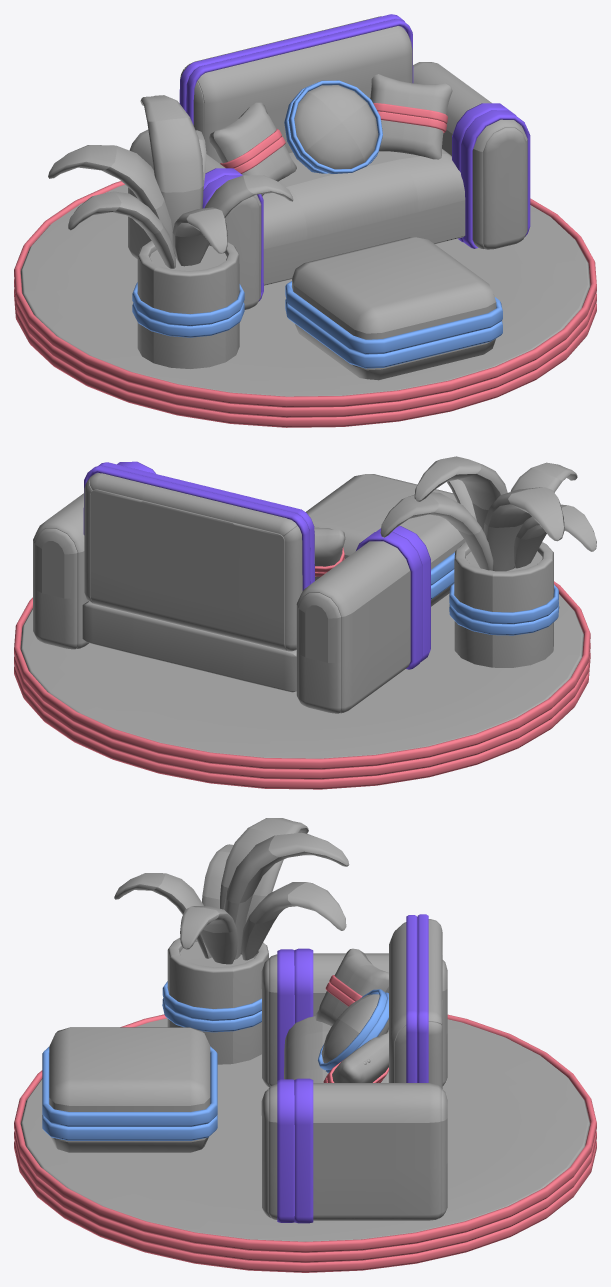
The model's file is RoyalSofa.fbx.
3 views of the same model, one above another, from view 1: azimuth 30°, elevation 25°; view 2: azimuth 150°, elevation 25°; view 3: azimuth 270°, elevation 25° (orthographic).
Visible parts, largest first — view 1: S_RoyalSofa, D5_Chapter08_Sofa_276, D5_Chapter08_Sofa_119, D5_Chapter08_Sofa_6, D5_Chapter08_Sofa_224, D5_Chapter08_Sofa_102, D5_Chapter08_Sofa_209, D5_Chapter08_Sofa_109, D5_Chapter08_Sofa_185, D5_Chapter08_Sofa_196, D5_Chapter08_Sofa_43, D5_Chapter08_Sofa_155 (+56 smaller); view 2: S_RoyalSofa, D5_Chapter08_Sofa_219, D5_Chapter08_Sofa_6, D5_Chapter08_Sofa_119, D5_Chapter08_Sofa_71, D5_Chapter08_Sofa_177, D5_Chapter08_Sofa_126, D5_Chapter08_Sofa_232, D5_Chapter08_Sofa_155, D5_Chapter08_Sofa_163, D5_Chapter08_Sofa_157, D5_Chapter08_Sofa_258 (+64 smaller); view 3: S_RoyalSofa, D5_Chapter08_Sofa_276, D5_Chapter08_Sofa_219, D5_Chapter08_Sofa_71, D5_Chapter08_Sofa_101, D5_Chapter08_Sofa_6, D5_Chapter08_Sofa_109, D5_Chapter08_Sofa_279, D5_Chapter08_Sofa_9, D5_Chapter08_Sofa_177, D5_Chapter08_Sofa_284, D5_Chapter08_Sofa_125 (+53 smaller).
Boxes of the visible parts, bbox=[...] form: S_RoyalSofa: bbox=[14, 14, 596, 427]; D5_Chapter08_Sofa_276: bbox=[496, 261, 590, 350]; D5_Chapter08_Sofa_119: bbox=[23, 288, 150, 372]; D5_Chapter08_Sofa_6: bbox=[20, 204, 127, 293]; D5_Chapter08_Sofa_224: bbox=[133, 360, 342, 396]; D5_Chapter08_Sofa_102: bbox=[483, 128, 526, 249]; D5_Chapter08_Sofa_209: bbox=[324, 272, 434, 333]; D5_Chapter08_Sofa_109: bbox=[394, 259, 495, 319]; D5_Chapter08_Sofa_185: bbox=[147, 117, 203, 192]; D5_Chapter08_Sofa_196: bbox=[333, 338, 530, 395]; D5_Chapter08_Sofa_43: bbox=[153, 265, 225, 313]; D5_Chapter08_Sofa_155: bbox=[184, 50, 264, 123]; S_RoyalSofa: bbox=[14, 461, 590, 789]; D5_Chapter08_Sofa_219: bbox=[80, 694, 274, 757]; D5_Chapter08_Sofa_6: bbox=[265, 710, 472, 758]; D5_Chapter08_Sofa_119: bbox=[430, 653, 581, 734]; D5_Chapter08_Sofa_71: bbox=[20, 624, 135, 712]; D5_Chapter08_Sofa_177: bbox=[136, 676, 283, 727]; D5_Chapter08_Sofa_126: bbox=[387, 647, 500, 709]; D5_Chapter08_Sofa_232: bbox=[275, 687, 429, 728]; D5_Chapter08_Sofa_155: bbox=[233, 507, 297, 569]; D5_Chapter08_Sofa_163: bbox=[492, 558, 553, 612]; D5_Chapter08_Sofa_157: bbox=[93, 644, 190, 693]; D5_Chapter08_Sofa_258: bbox=[34, 588, 77, 649]; S_RoyalSofa: bbox=[14, 914, 596, 1272]; D5_Chapter08_Sofa_276: bbox=[43, 1156, 223, 1232]; D5_Chapter08_Sofa_219: bbox=[501, 1076, 590, 1168]; D5_Chapter08_Sofa_71: bbox=[403, 1156, 567, 1232]; D5_Chapter08_Sofa_101: bbox=[197, 1204, 413, 1241]; D5_Chapter08_Sofa_6: bbox=[447, 1019, 565, 1087]; D5_Chapter08_Sofa_109: bbox=[49, 1053, 129, 1105]; D5_Chapter08_Sofa_279: bbox=[130, 1053, 210, 1105]; D5_Chapter08_Sofa_9: bbox=[110, 1152, 250, 1204]; D5_Chapter08_Sofa_177: bbox=[447, 1087, 516, 1155]; D5_Chapter08_Sofa_284: bbox=[169, 955, 233, 1008]; D5_Chapter08_Sofa_125: bbox=[392, 1167, 441, 1220].
Bounding box in the file's own units: 701 × 312 × 683.
